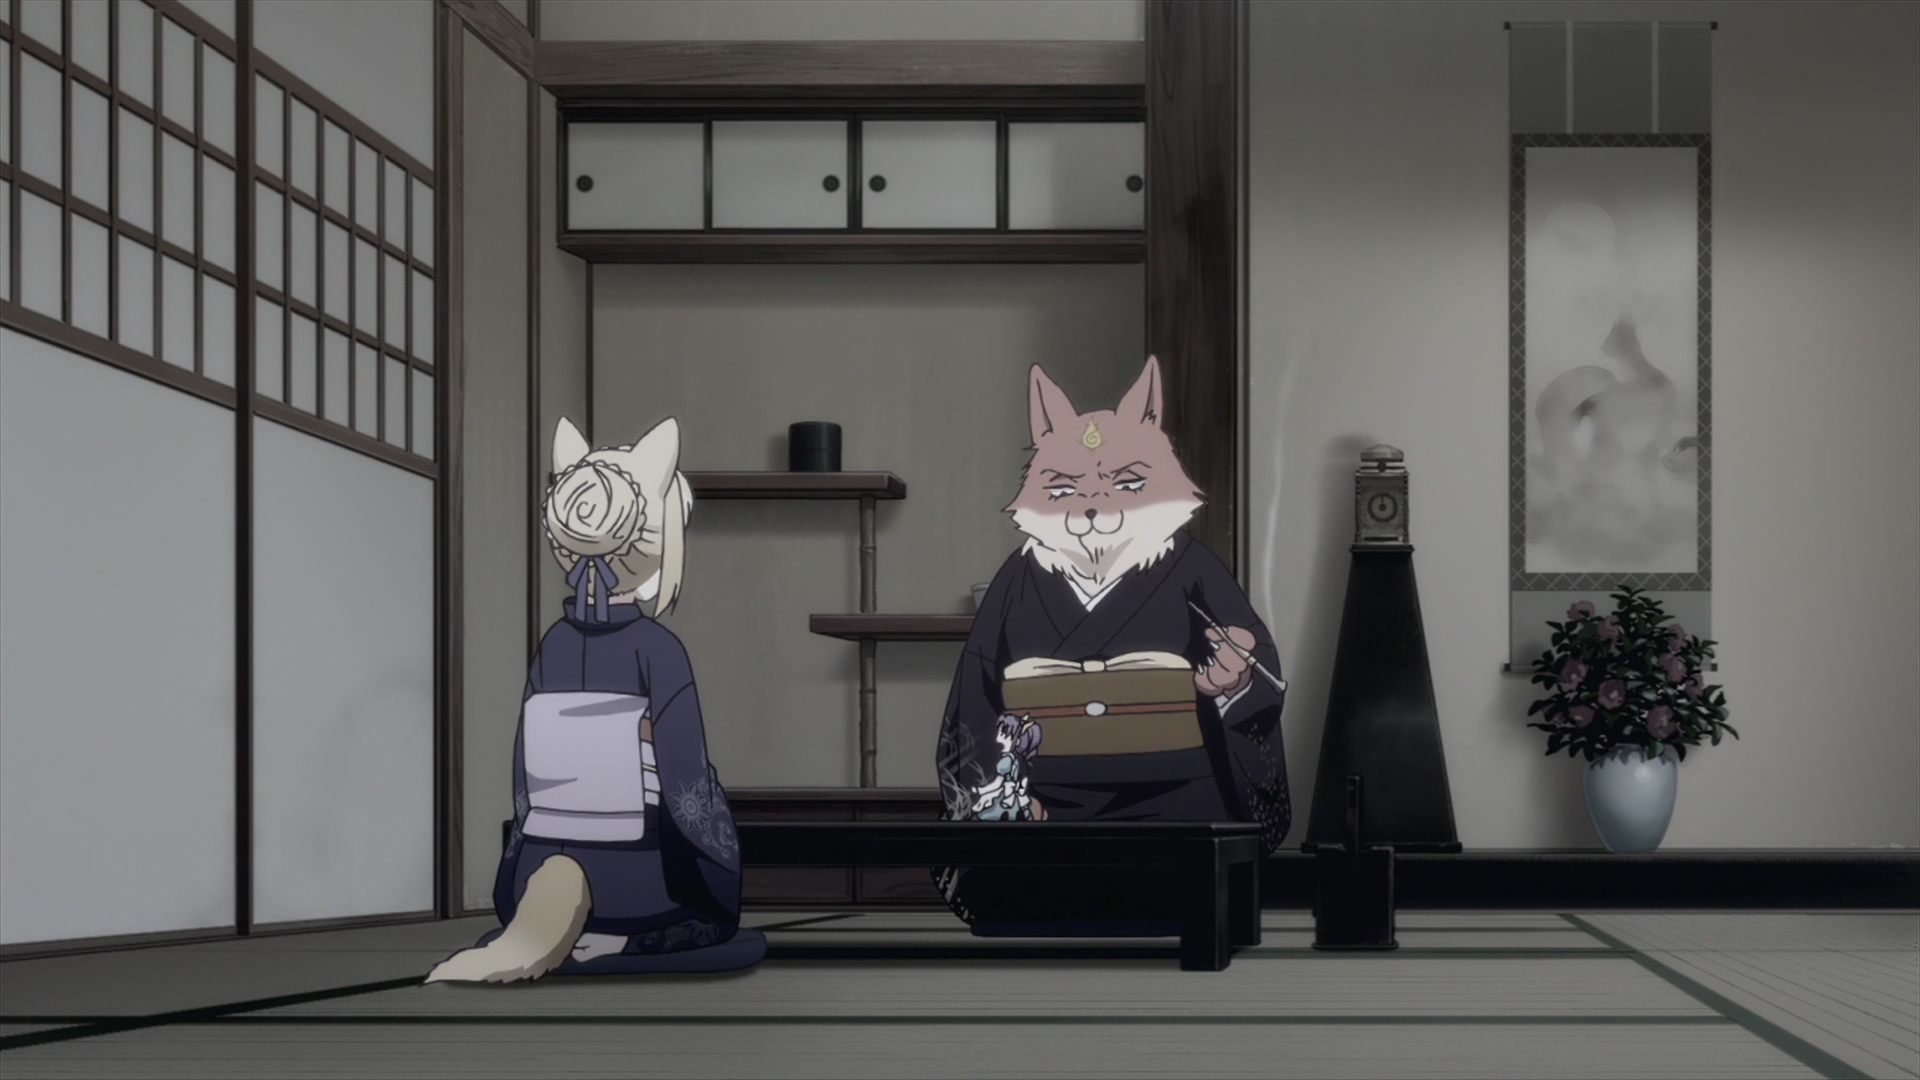桐: (429, 415, 746, 984)
椿: (938, 355, 1291, 936)
阿菊: (971, 712, 1048, 822)
